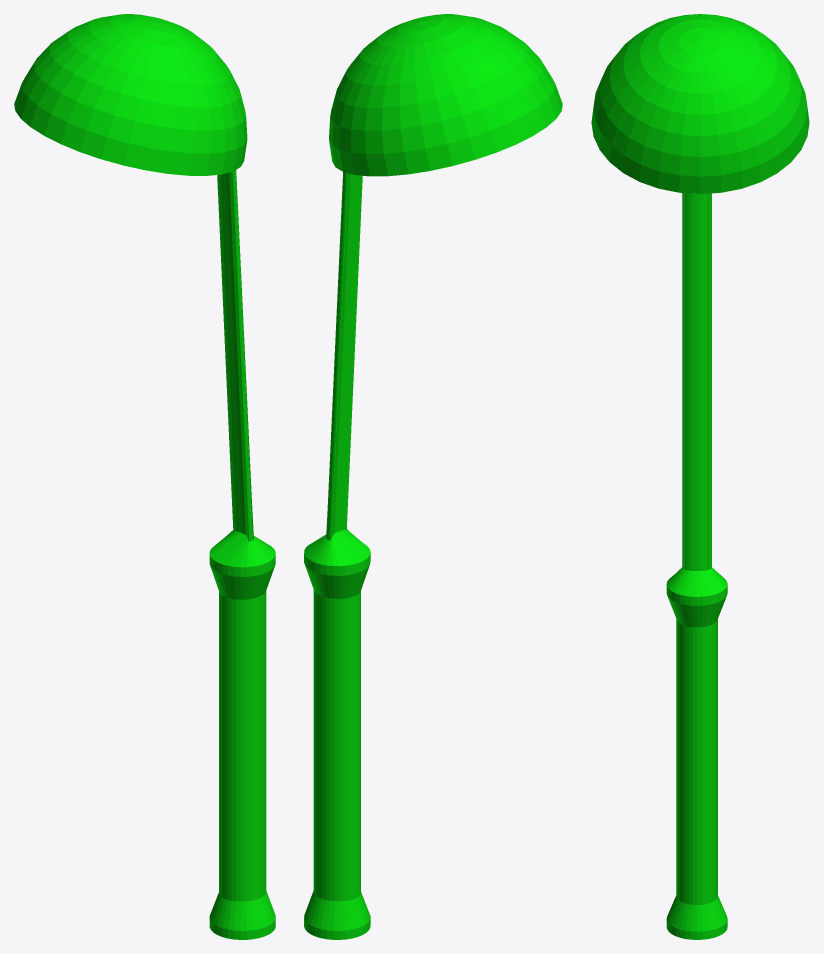
The model's file is spoon-yatai1.fbx.
3 views of the same model, side by side, from view 1: azimuth 30°, elevation 25°; view 2: azimuth 150°, elevation 25°; view 3: azimuth 270°, elevation 25° (orthographic). The views are drawn at different scales.
Parts seen in each view (by area): view 1: Cylinder; view 2: Cylinder; view 3: Cylinder.
Boxes of the visible parts, left/top/right/bottom form: Cylinder: left=14, top=14, right=275, bottom=939; Cylinder: left=304, top=14, right=562, bottom=939; Cylinder: left=591, top=14, right=809, bottom=939.
Bounding box in the file's own units: 47.83 × 177 × 41.06.
